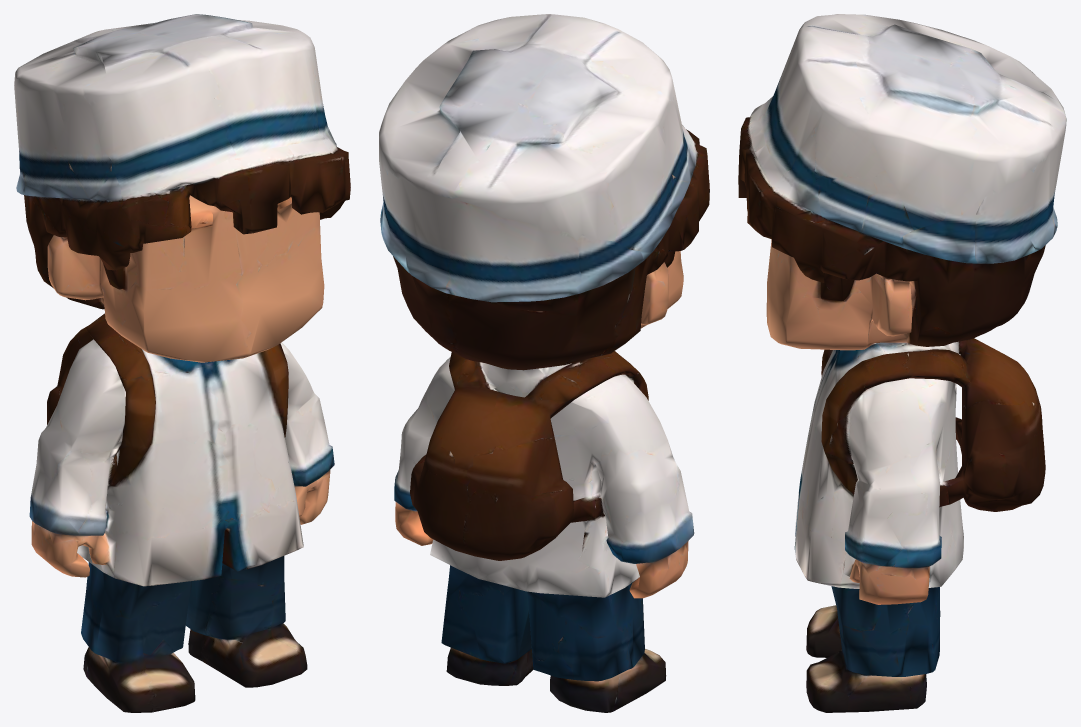
The model's file is boy-friend.glb.
3 views of the same model, side by side, from view 1: azimuth 30°, elevation 25°; view 2: azimuth 150°, elevation 25°; view 3: azimuth 270°, elevation 25° (orthographic). The views are drawn at different scales.
Size of the model in its own units: 0.8812 by 1.9 by 0.8932.
1 material, 1 textured.
